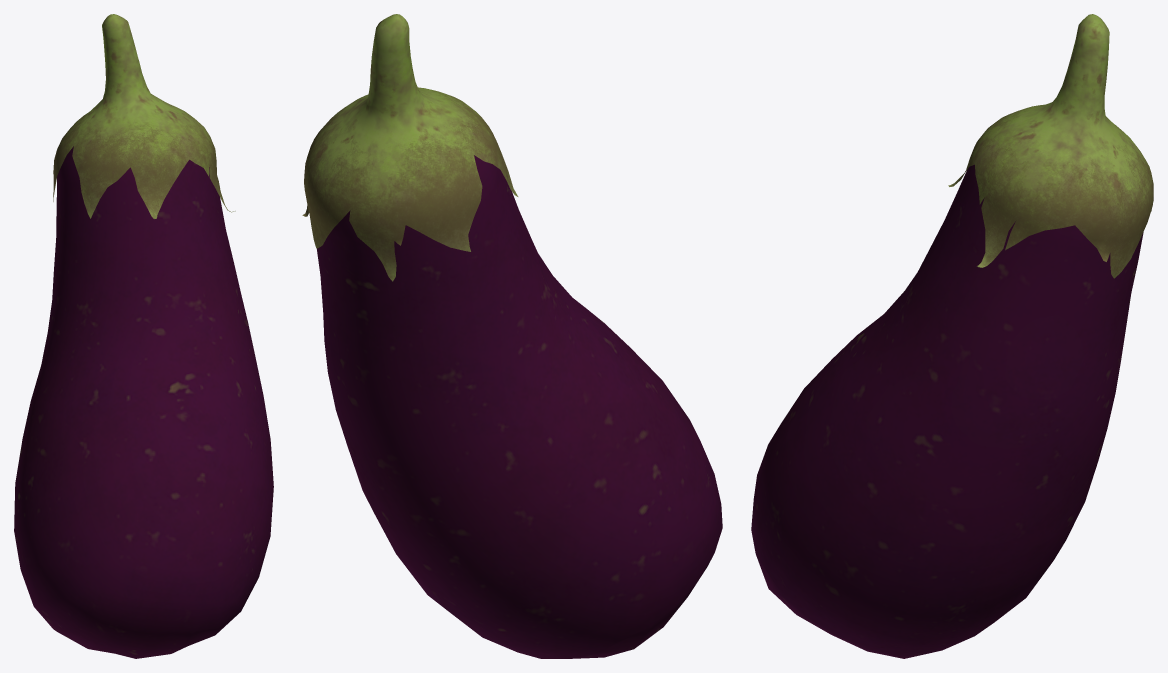
The model's file is PurpleVegetableEggplant.fbx.
3 renders of one model, left to right at view 1: azimuth 30°, elevation 25°; view 2: azimuth 150°, elevation 25°; view 3: azimuth 270°, elevation 25°, orthographic. The views are drawn at different scales.
Visible parts, largest first — view 1: Eggplant; view 2: Eggplant; view 3: Eggplant.
Part boxes in pixels (<box>): Eggplant: <box>14,14,273,658</box>; Eggplant: <box>302,14,722,658</box>; Eggplant: <box>751,14,1153,658</box>.
Size of the model in its own units: 0.0764 by 0.092 by 0.1661.
2 materials, 2 textured.
